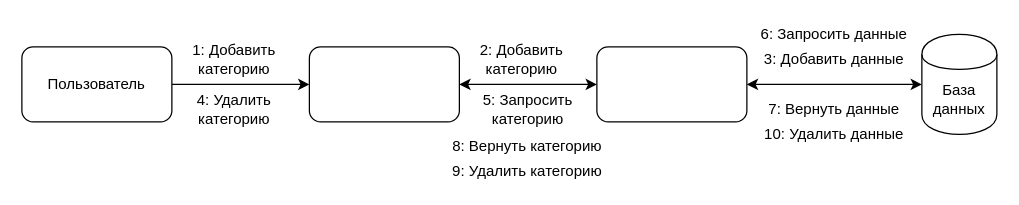
Some shapes in this 1019 by 205 pixel diagram are drawn without their labels. Here are the shapes that lost their labels. From the top down, the centre of each, then its label:
At (383,84): "Графический интерфейс".
At (671,84): "Менеджер категорий".
